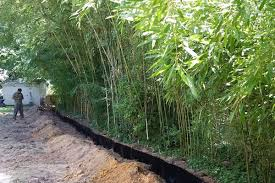bamboo: (136, 3, 210, 146), (217, 5, 273, 182), (94, 4, 130, 130), (55, 4, 89, 113), (2, 3, 50, 78)
